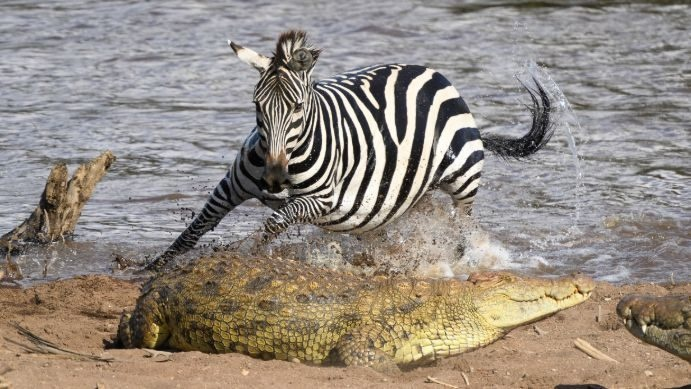crocodile: (110, 237, 603, 379)
zebra: (142, 25, 568, 274)
